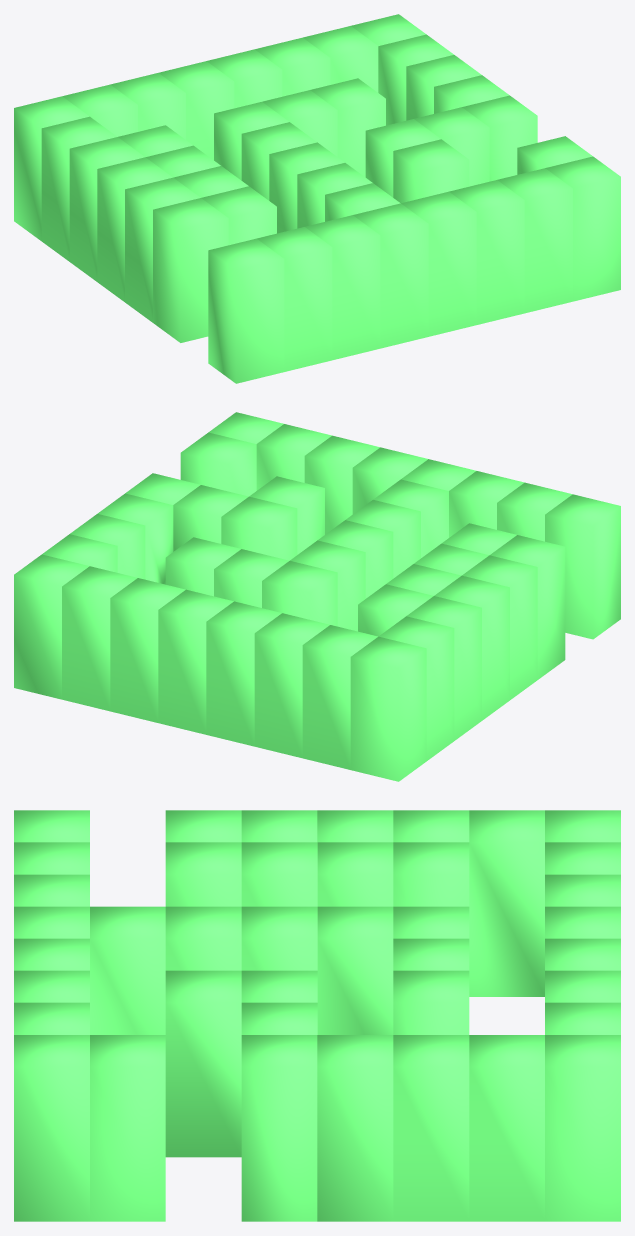
The model's file is ExportedBlenderFBXFile.fbx.
The picture shows the model from 3 angles, top to bottom: view 1: azimuth 30°, elevation 25°; view 2: azimuth 150°, elevation 25°; view 3: azimuth 270°, elevation 25°; orthographic projection. The views are drawn at different scales.
Parts seen in each view (by area): view 1: Plane; view 2: Plane; view 3: Plane.
Part boxes in pixels (<box>): Plane: <box>14,14,620,383</box>; Plane: <box>14,412,620,781</box>; Plane: <box>14,810,620,1221</box>.
Size of the model in its own units: 8 by 2.25 by 8.
